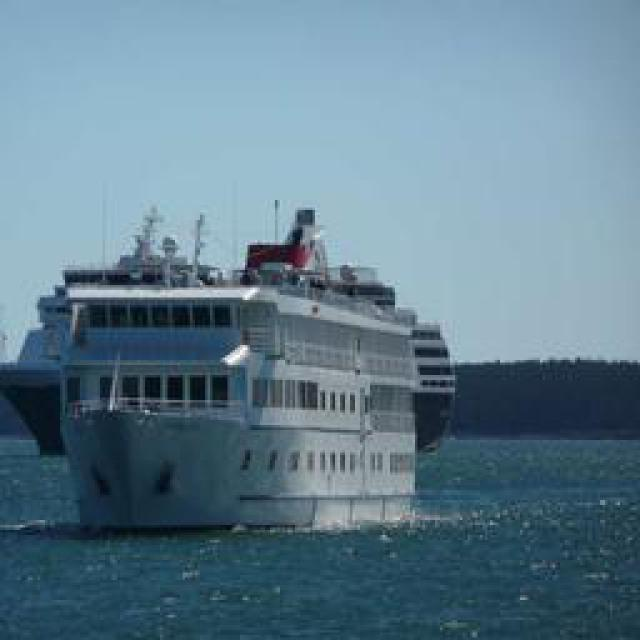Ship: (47, 199, 426, 532)
